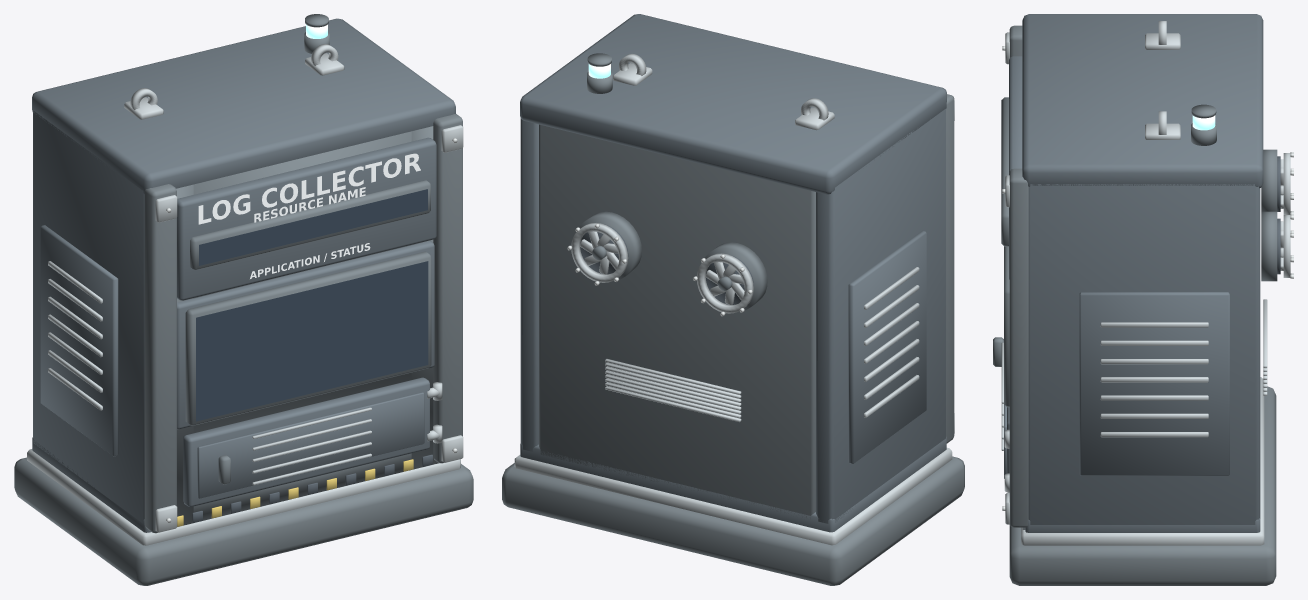
The model's file is log_collector_enhanced.glb.
3 views of the same model, side by side, from view 1: azimuth 30°, elevation 25°; view 2: azimuth 150°, elevation 25°; view 3: azimuth 270°, elevation 25° (orthographic). The views are drawn at different scales.
Visible parts, largest first — view 1: Roof_graphite, LiveViewSurface_glass, SideWall_graphite, Skid_frame, CornerPost_frame, FrontHeader_graphite, SideServicePanel_graphite, DoorMoving_Inset_graphite, DoorMoving_Panel_graphite, SkidDeck_steel, LiveViewSurfaceFrame_frame, ResourceNameSurface_glass (+15 smaller); view 2: BackWall_frame, Roof_graphite, SideWall_graphite, Skid_frame, SideServicePanel_graphite, SkidDeck_steel, KickPlate_graphite, RearFan_steel, RearVent_steel, CornerPost_frame, RearFan_frame, SideLouver_steel (+3 smaller); view 3: SideWall_graphite, Roof_graphite, SideServicePanel_graphite, Skid_frame, CornerPost_frame, SideLouver_steel, SkidDeck_steel, RearFan_frame, KickPlate_graphite, FrontHeader_graphite, RearFan_steel, ResourceNameSurfaceFrame_frame (+7 smaller).
Boxes of the visible parts, x1,y1,x2,y2 form: Roof_graphite: (32,18,455,194); LiveViewSurface_glass: (196,261,428,421); SideWall_graphite: (33,111,144,523); Skid_frame: (14,457,473,585); CornerPost_frame: (144,114,462,533); FrontHeader_graphite: (177,137,436,300); SideServicePanel_graphite: (40,225,118,456); DoorMoving_Inset_graphite: (197,392,424,498); DoorMoving_Panel_graphite: (183,377,429,506); SkidDeck_steel: (27,449,460,545); LiveViewSurfaceFrame_frame: (185,251,431,425); ResourceNameSurface_glass: (199,189,427,265); BackWall_frame: (539,124,815,518); Roof_graphite: (520,14,946,194); SideWall_graphite: (520,109,945,523); Skid_frame: (502,456,964,585); SideServicePanel_graphite: (848,230,926,463); SkidDeck_steel: (514,447,952,545); KickPlate_graphite: (520,437,946,532); RearFan_steel: (571,223,753,313); RearVent_steel: (605,359,741,422); CornerPost_frame: (946,94,954,443); RearFan_frame: (579,211,767,311); SideLouver_steel: (864,267,919,417); SideWall_graphite: (1028,184,1260,524); Roof_graphite: (1022,14,1263,188); SideServicePanel_graphite: (1079,292,1229,475); Skid_frame: (1009,386,1276,585); CornerPost_frame: (1009,25,1028,527); SideLouver_steel: (1100,322,1208,437); SkidDeck_steel: (1021,377,1264,545); RearFan_frame: (1261,149,1277,281); KickPlate_graphite: (1025,518,1260,532); FrontHeader_graphite: (1009,56,1022,279); RearFan_steel: (1280,153,1290,277); ResourceNameSurfaceFrame_frame: (1001,97,1008,246).
Size of the model in its own units: 2 by 2.48 by 1.51.
